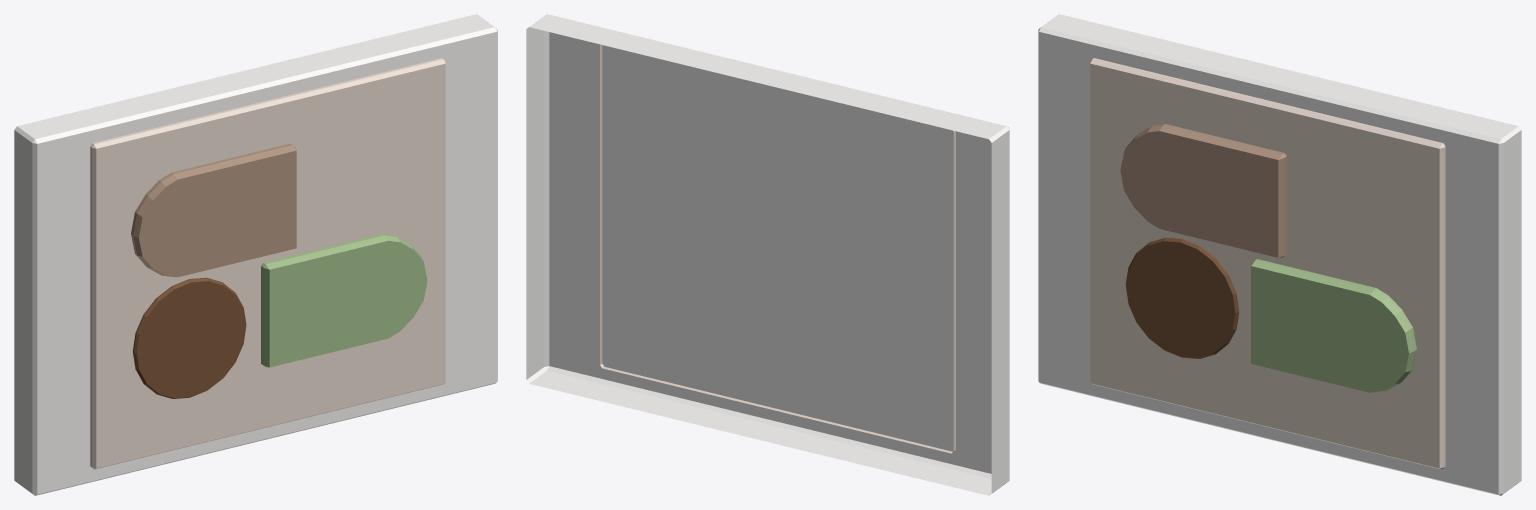
Rendered from Painting_2.glb.
3 renders of one model, left to right at view 1: azimuth 30°, elevation 25°; view 2: azimuth 150°, elevation 25°; view 3: azimuth 330°, elevation 25°, orthographic.
Parts seen in each view (by area): view 1: Painting_2; view 2: Painting_2; view 3: Painting_2.
Part boxes in pixels (x1,y1,x2,y2): Painting_2: (14, 14, 497, 495); Painting_2: (526, 14, 1009, 495); Painting_2: (1038, 14, 1521, 495).
Bounding box in the file's own units: 0.9504 × 0.6959 × 0.1068.
1 material, 1 textured.
